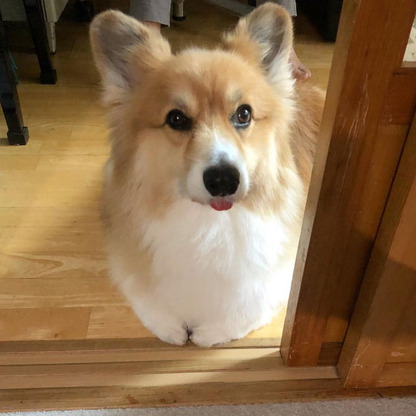Corgi: (79, 7, 327, 351)
